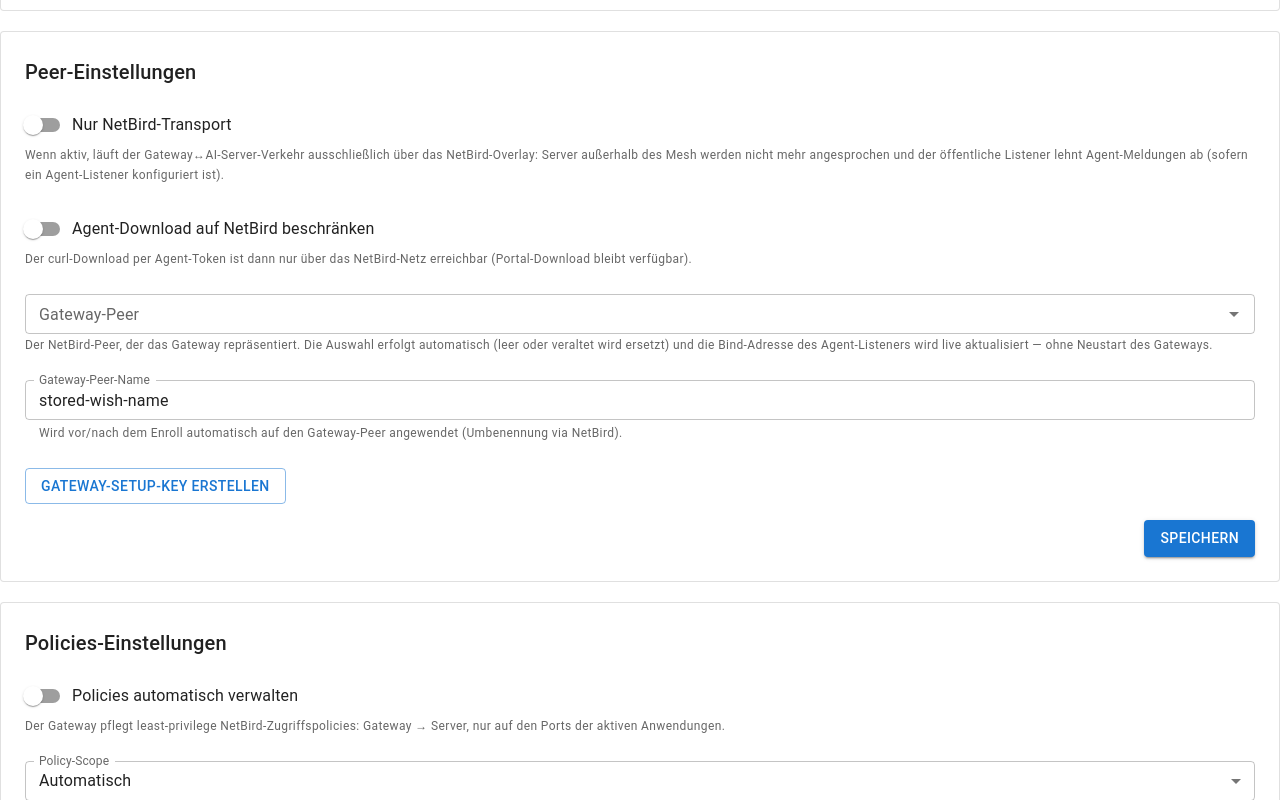
Test case: is sticky: a status refresh delivering a different live name after the operator has typed does not change the field
This screenshot has width=1280, height=800.
(page scrolled)
Replace the text in the field labelled "Gateway-Peer-Name" with "typed-by-operator" at (640, 400), box x1=25 y1=380 x2=1255 y2=420
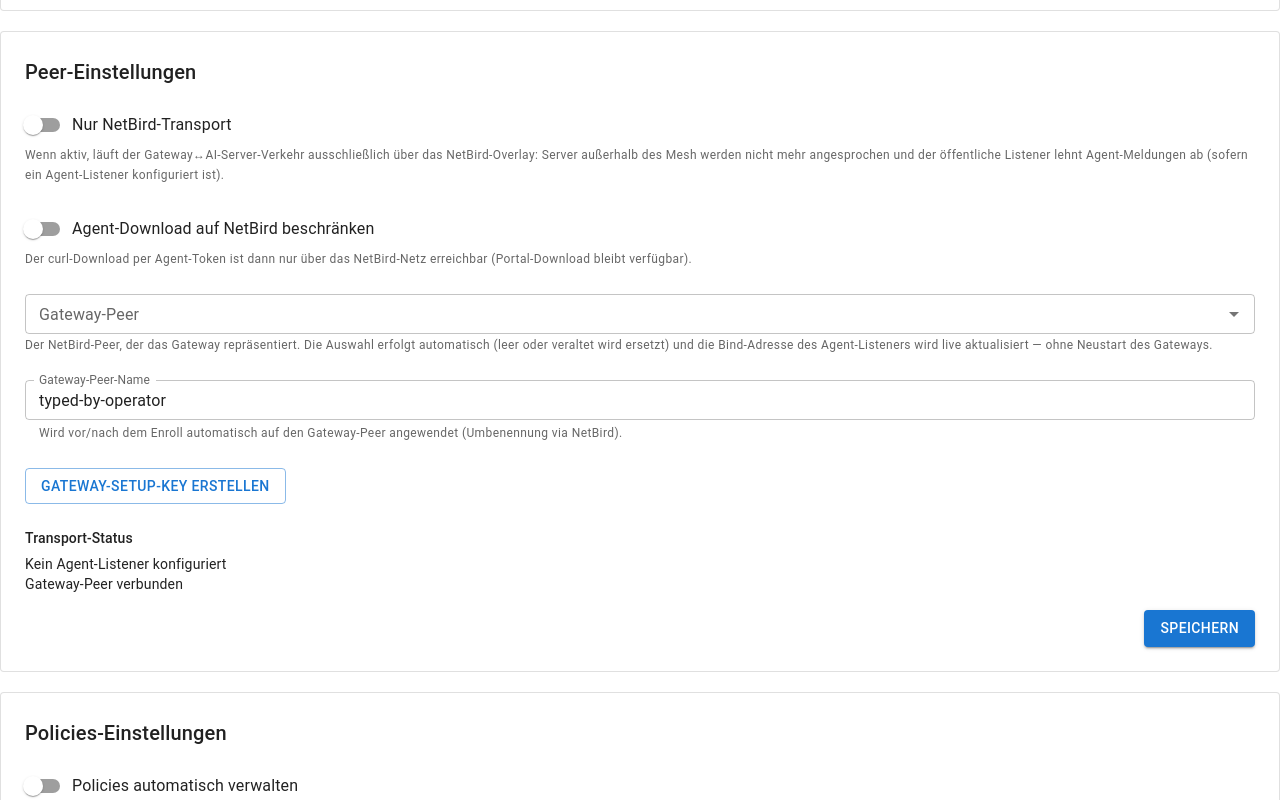
Expected: the heading "Transport-Status" is shown, x1=25 y1=530 x2=133 y2=546
